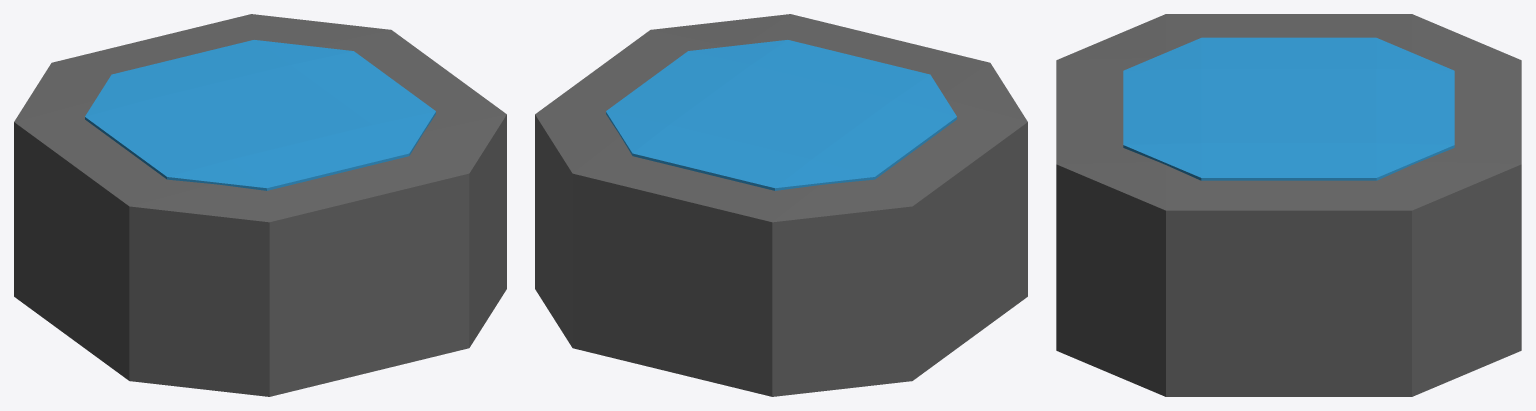
File: Spring.gltf
3 renders of one model, left to right at view 1: azimuth 30°, elevation 25°; view 2: azimuth 150°, elevation 25°; view 3: azimuth 270°, elevation 25°, orthographic. The views are drawn at different scales.
Parts seen in each view (by area): view 1: Base, Spring; view 2: Base, Spring; view 3: Base, Spring.
Part boxes in pixels (x1,y1,x2,y2): Base: (14, 14, 506, 396); Spring: (85, 40, 435, 190); Base: (535, 14, 1027, 396); Spring: (606, 40, 956, 190); Base: (1056, 14, 1521, 396); Spring: (1123, 37, 1454, 180).
Bounding box in the file's own units: 2.88 × 1.33 × 2.88.
